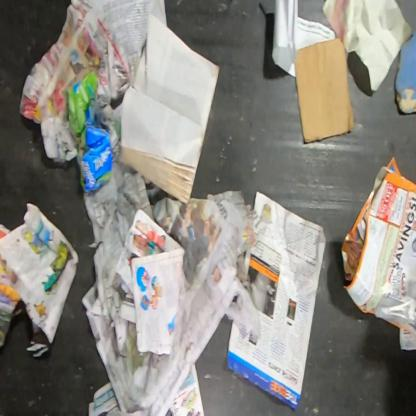cardboard: (62, 68, 120, 192), (294, 38, 354, 144), (394, 28, 415, 115)
